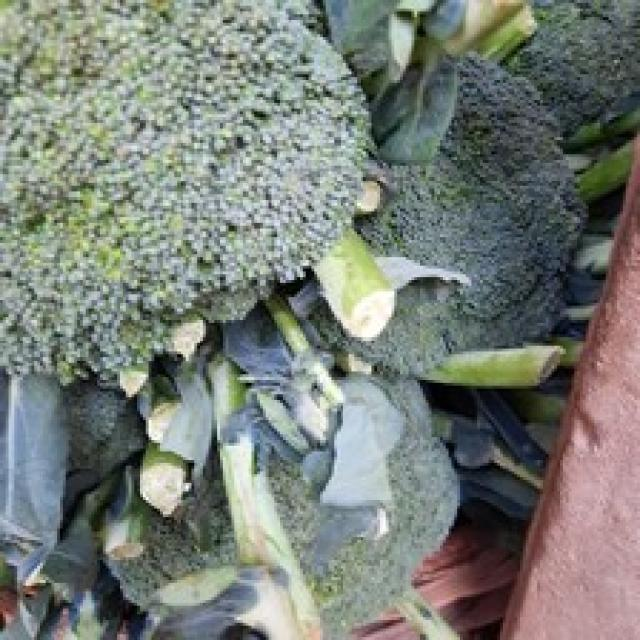Broccoli: (0, 0, 370, 379), (0, 0, 370, 379), (319, 56, 585, 373), (319, 56, 585, 373), (320, 56, 585, 373)
